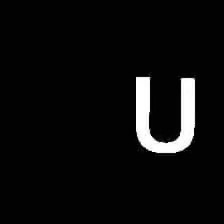LTR_U: (129, 73, 201, 156)
